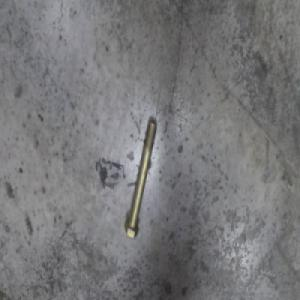Bolt: (124, 120, 158, 237)
